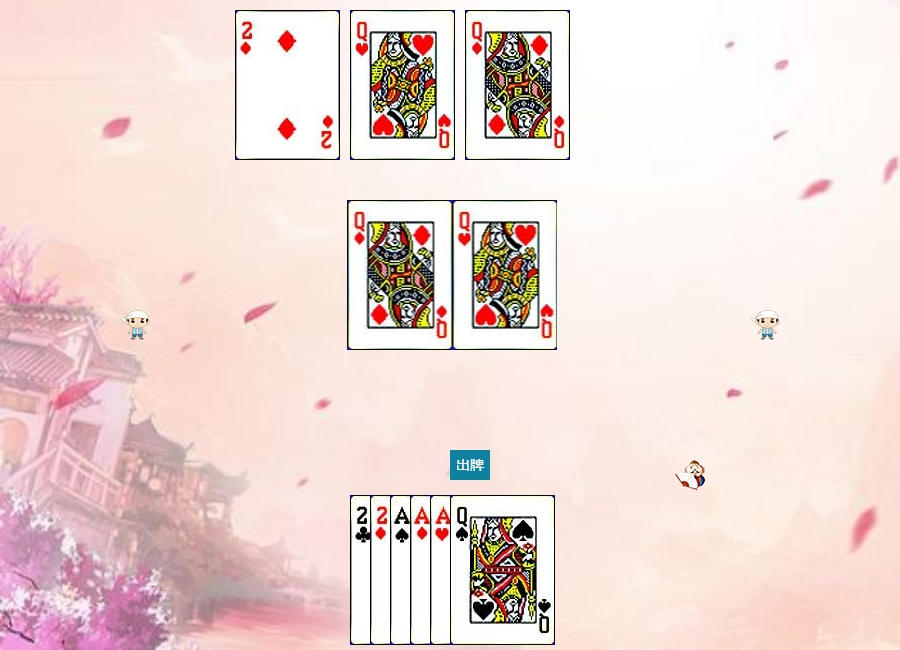12~1: (465, 10, 570, 160), (348, 200, 453, 350)
12~3: (350, 10, 455, 160), (453, 200, 558, 350)
12~4: (450, 495, 555, 645)
14~1: (410, 495, 515, 645)
14~3: (430, 495, 535, 645)
14~4: (390, 495, 495, 645)
15~1: (235, 10, 340, 160), (370, 495, 475, 645)
15~2: (350, 495, 455, 645)
